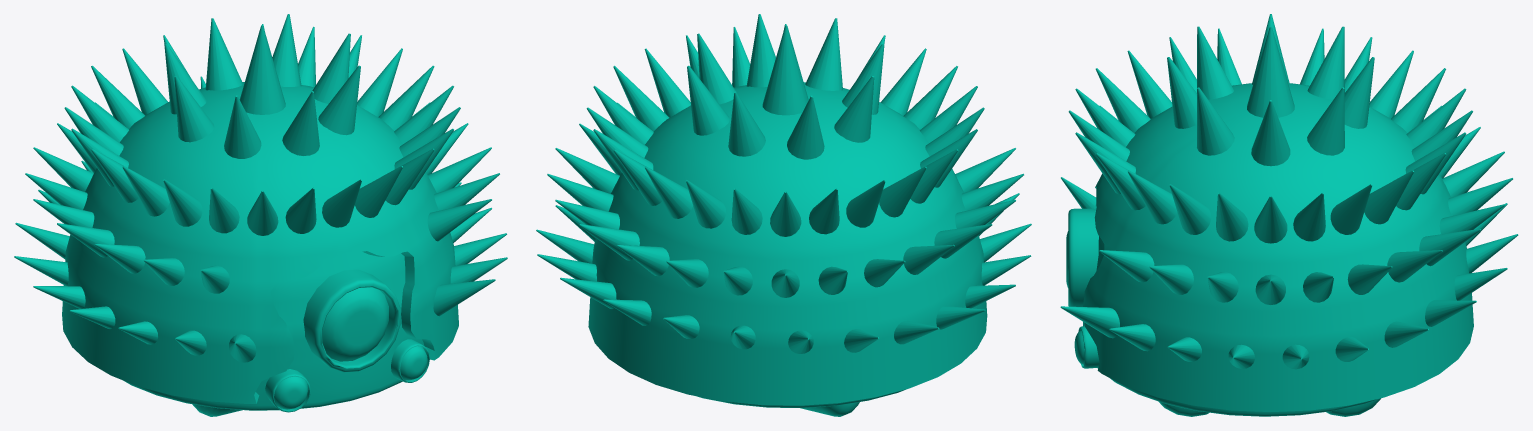
Rendered from urchin.fbx.
The picture shows the model from 3 angles, left to right: view 1: azimuth 30°, elevation 25°; view 2: azimuth 150°, elevation 25°; view 3: azimuth 270°, elevation 25°; orthographic projection. The views are drawn at different scales.
Parts seen in each view (by area): view 1: urchin-body, spikes, eyes; view 2: urchin-body, spikes; view 3: urchin-body, spikes, eyes.
Boxes of the visible parts, x1,y1,x2,y2 form: urchin-body: (62,82,458,410); spikes: (14,14,507,362); eyes: (265,269,429,412); urchin-body: (588,82,987,407); spikes: (536,14,1031,353); urchin-body: (1083,83,1473,416); spikes: (1060,14,1518,369); eyes: (1066,208,1099,368).
Size of the model in its own units: 32.45 by 24.41 by 29.46.
